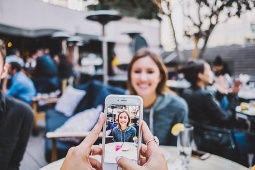female: (126, 52, 165, 96)
